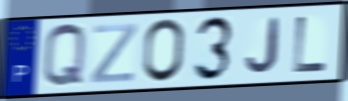3: (189, 14, 237, 83)
J: (244, 17, 281, 75)
L: (291, 14, 330, 75)
O: (141, 17, 187, 85)
Q: (41, 21, 88, 90)
Z: (88, 21, 140, 86)
